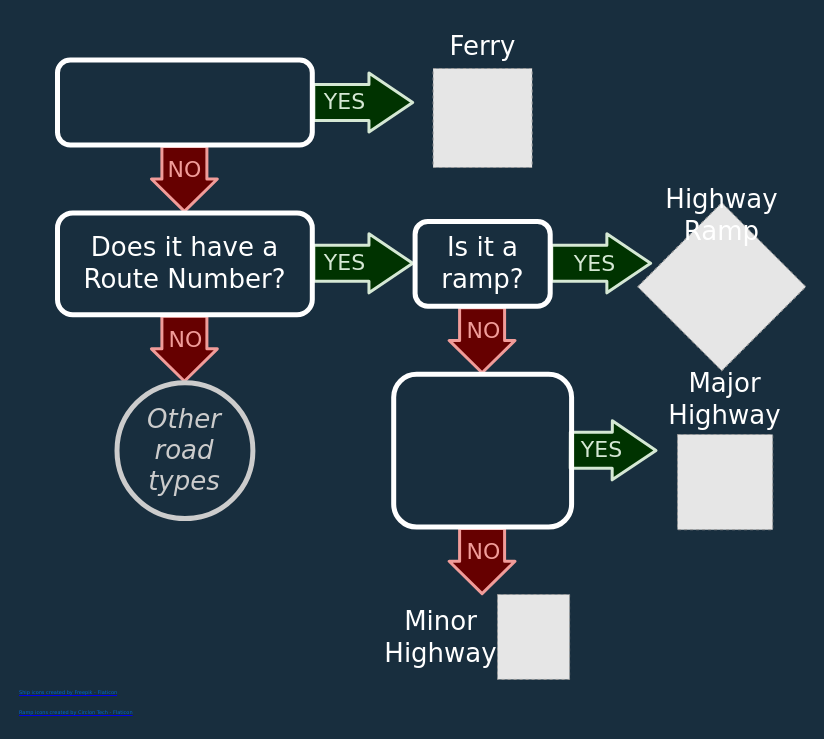
This 824x739 diagram has some shape labels left out. Grey dashed boxes stand in for pictures. The shapes that lost their labels are listed below. From the top down, each one's centre as x and y in pixels, then its label:
At point (184, 102): "Is it a Ferry?".
At point (482, 450): "Is it part of a major transport route?".
